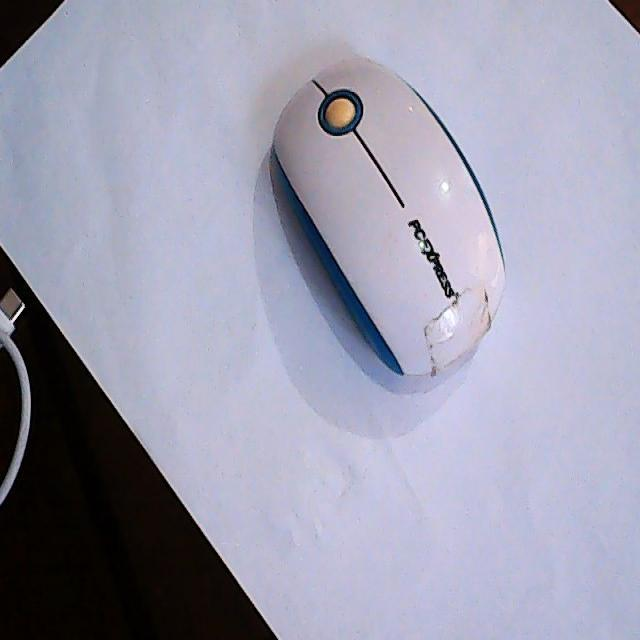mouse: (271, 47, 509, 381)
